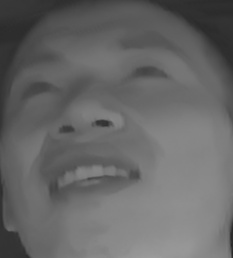eye: (15, 72, 63, 104), (121, 57, 172, 85)
mouth: (38, 147, 141, 207)
